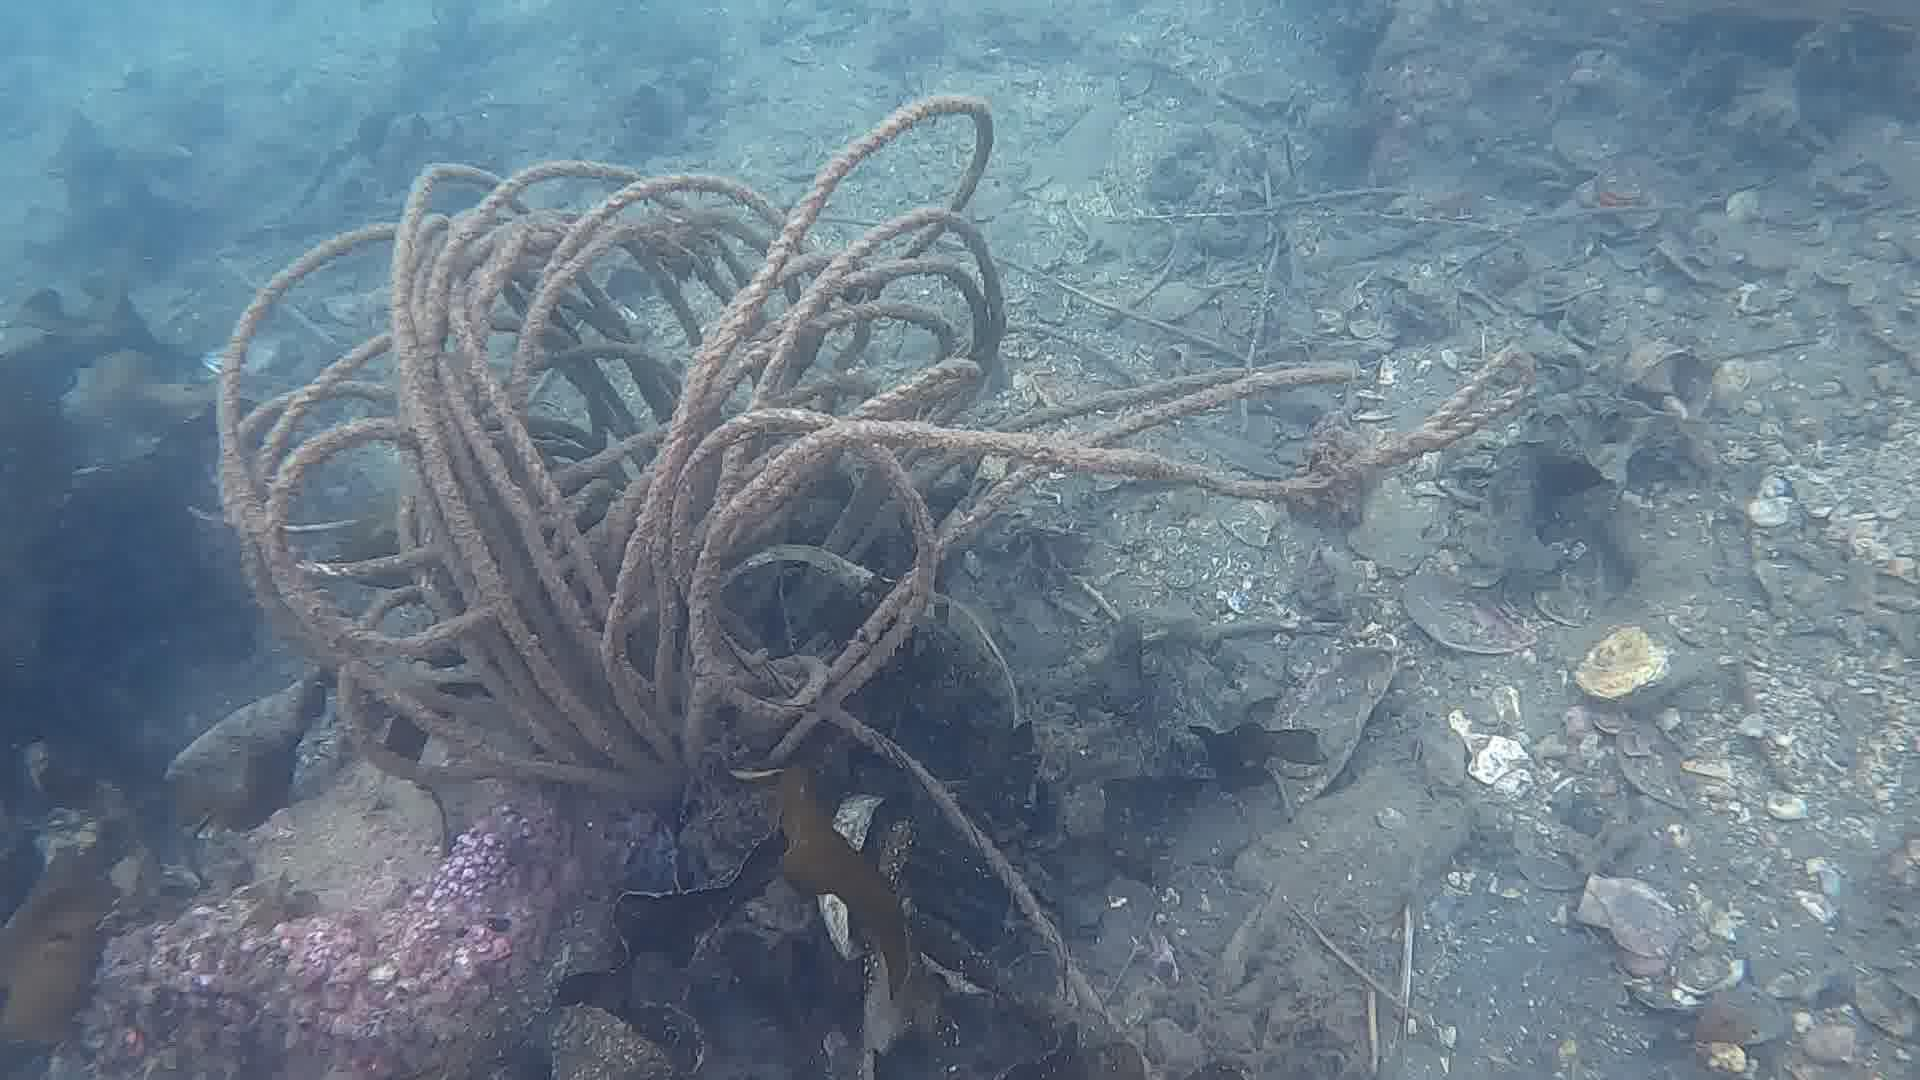bundle of ropes: (206, 90, 1542, 1067)
